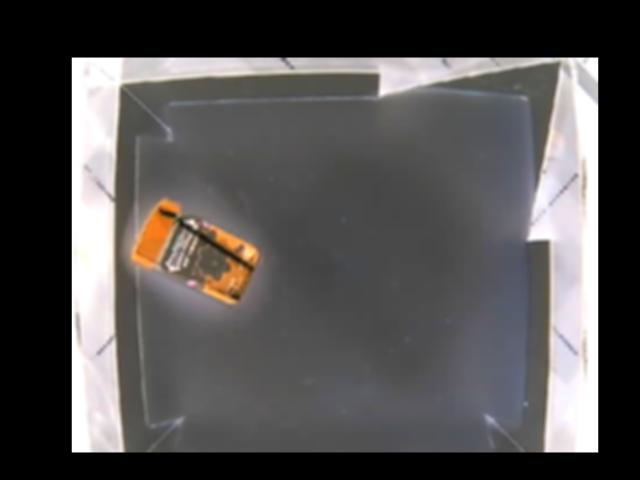Bottle: (130, 199, 262, 306)
